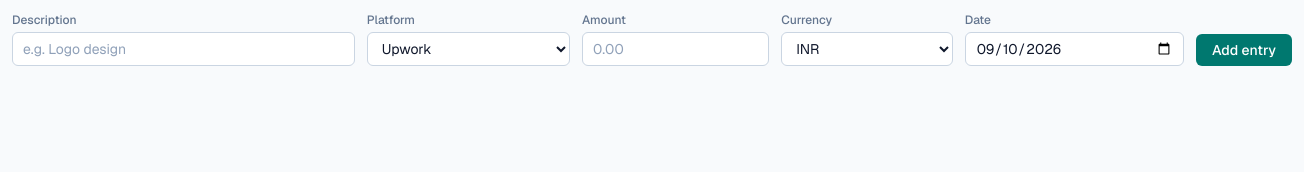
Test case: EntryForm › shows a validation error for a zero/negative amount
Type "Something" into the field labelled "Description".
click(183, 49); type("Something")  # box [12,32,355,66]
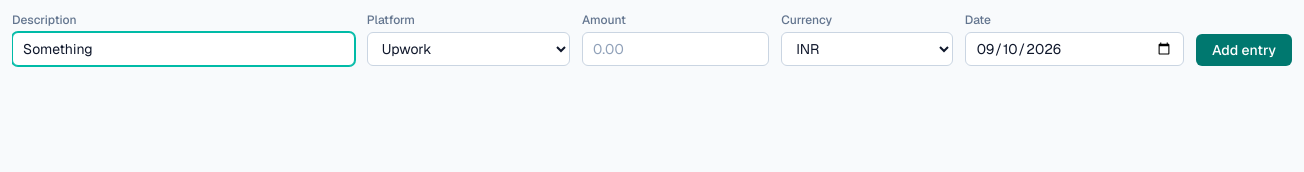
Type "0" into the number field labelled "Amount".
click(676, 49); type("0")  # box [582,32,769,66]
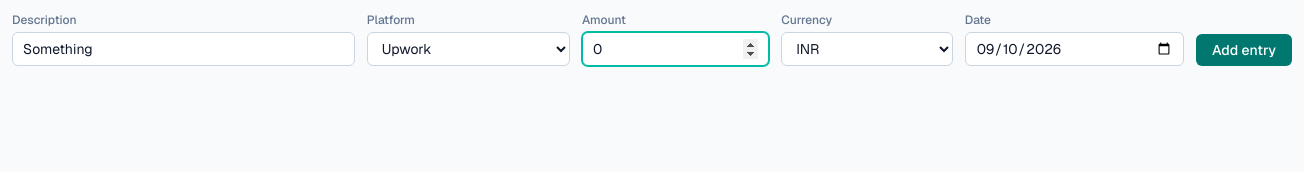
Click the button "Add entry".
click(1244, 50)  # box [1196,34,1292,66]
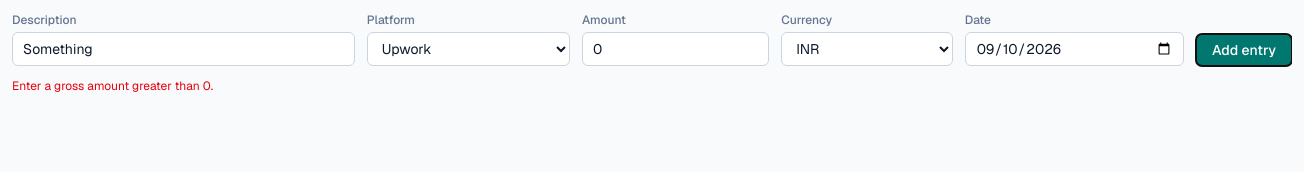
Result: the message shows "greater than 0" at [12,78,213,94]
